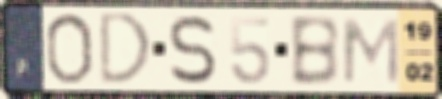5: (227, 14, 271, 86)
B: (286, 13, 342, 89)
D: (97, 10, 154, 88)
M: (340, 16, 401, 87)
O: (43, 11, 95, 86)
S: (167, 13, 219, 87)
